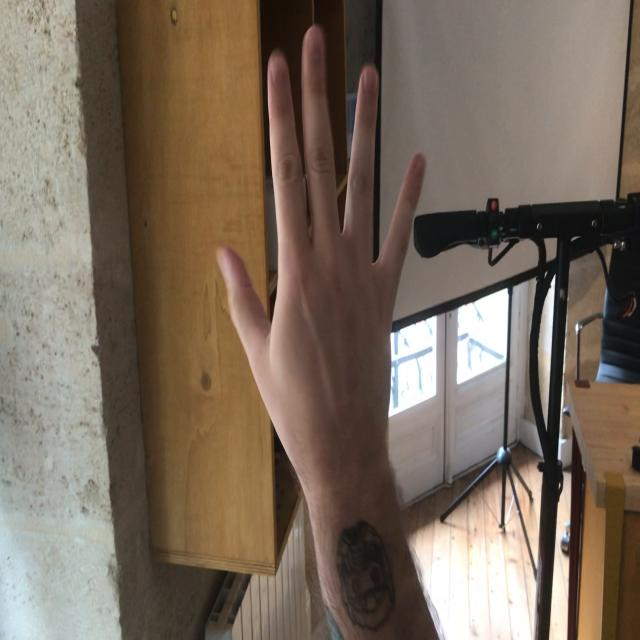hand: (213, 24, 428, 459)
